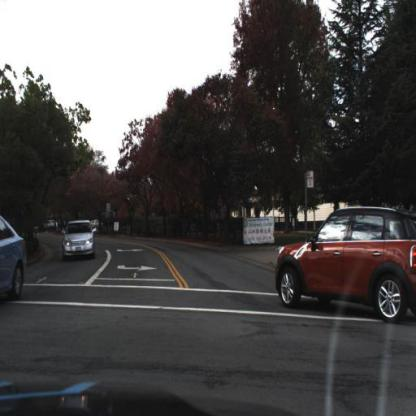car: (276, 204, 416, 329), (1, 206, 30, 311), (63, 220, 98, 262)
